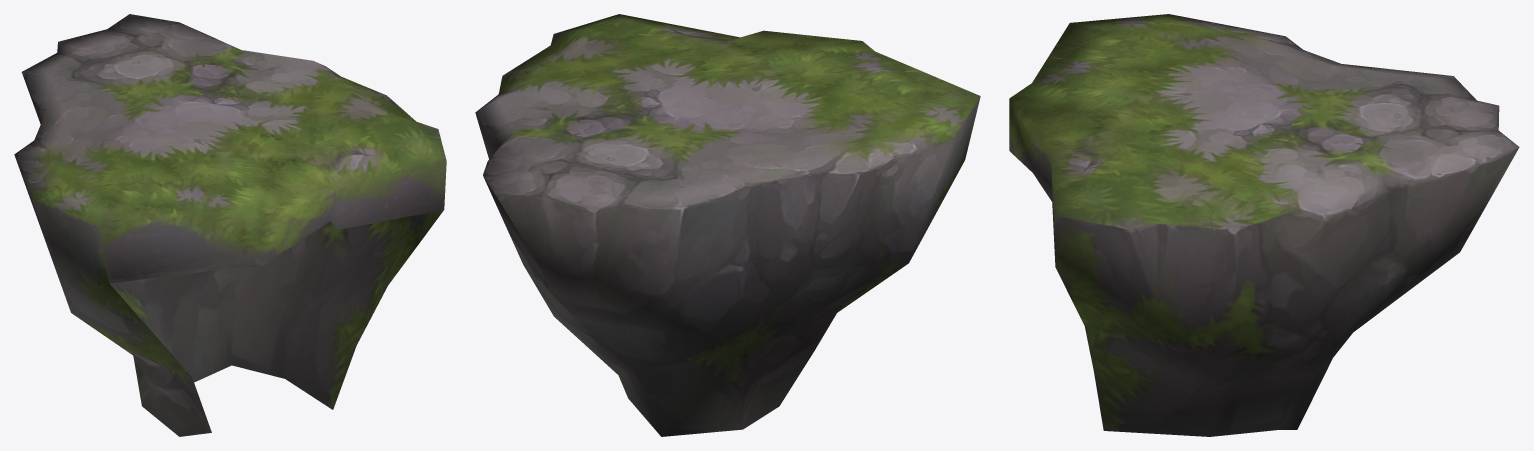
File: GM_rock_03.FBX
3 renders of one model, left to right at view 1: azimuth 30°, elevation 25°; view 2: azimuth 150°, elevation 25°; view 3: azimuth 270°, elevation 25°, orthographic. The views are drawn at different scales.
Visible parts, largest first — view 1: GM_rock_03; view 2: GM_rock_03; view 3: GM_rock_03.
Boxes of the visible parts, box(x1,y1,x2,y2) form: GM_rock_03: box(14, 14, 446, 436); GM_rock_03: box(475, 14, 980, 436); GM_rock_03: box(1009, 14, 1519, 436).
Bounding box in the file's own units: 12.9 × 9.33 × 13.63.
